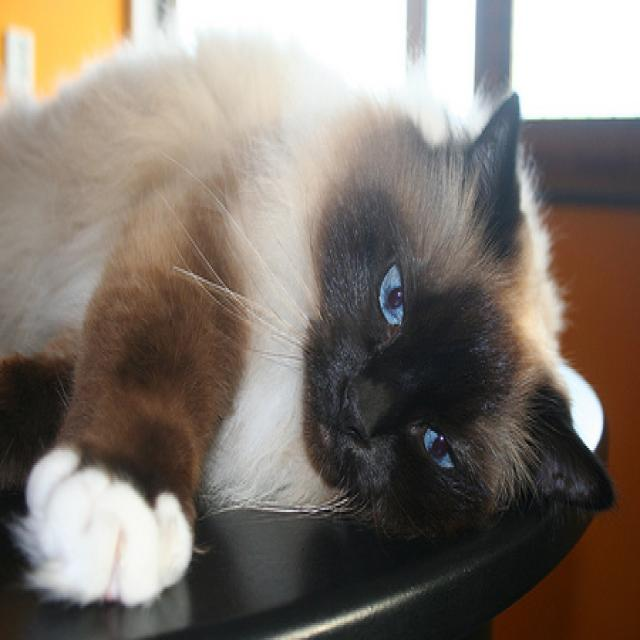Birman: (0, 15, 622, 608)
